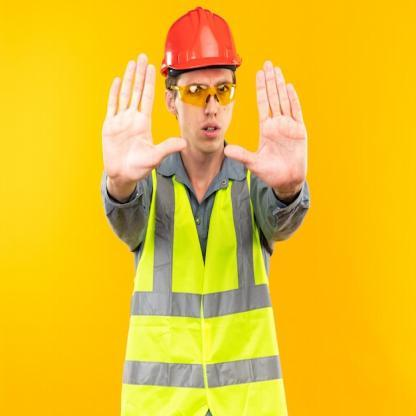stop: (100, 51, 188, 196), (220, 57, 310, 187)
